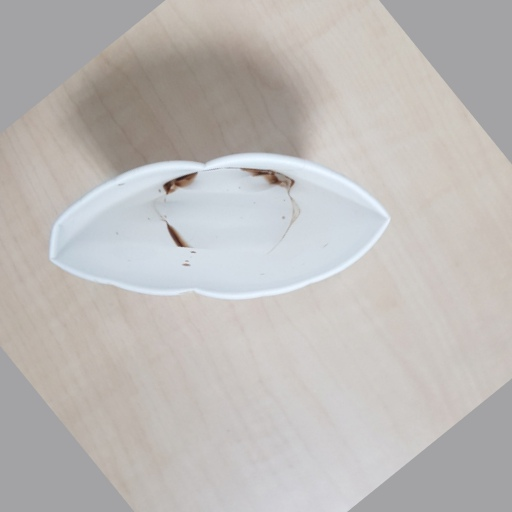Paper_1: (48, 153, 389, 300)
